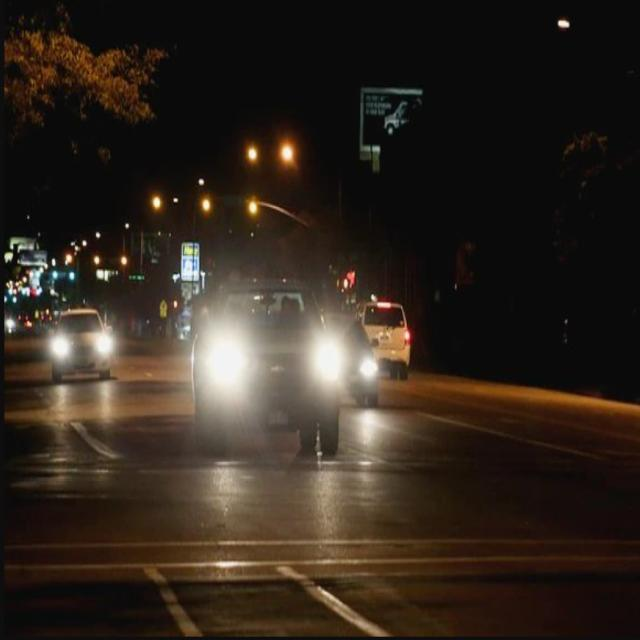headlights: (195, 329, 350, 405), (46, 326, 116, 375)
